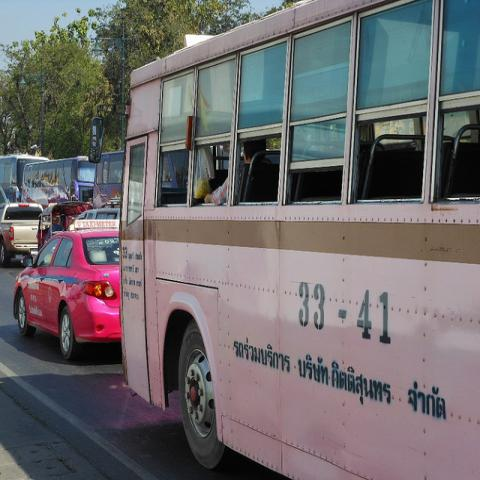bus: (122, 3, 480, 475), (21, 156, 99, 206), (0, 158, 48, 203), (93, 152, 124, 208)
car: (14, 229, 121, 361)
truck: (0, 201, 44, 271), (77, 208, 121, 220)
